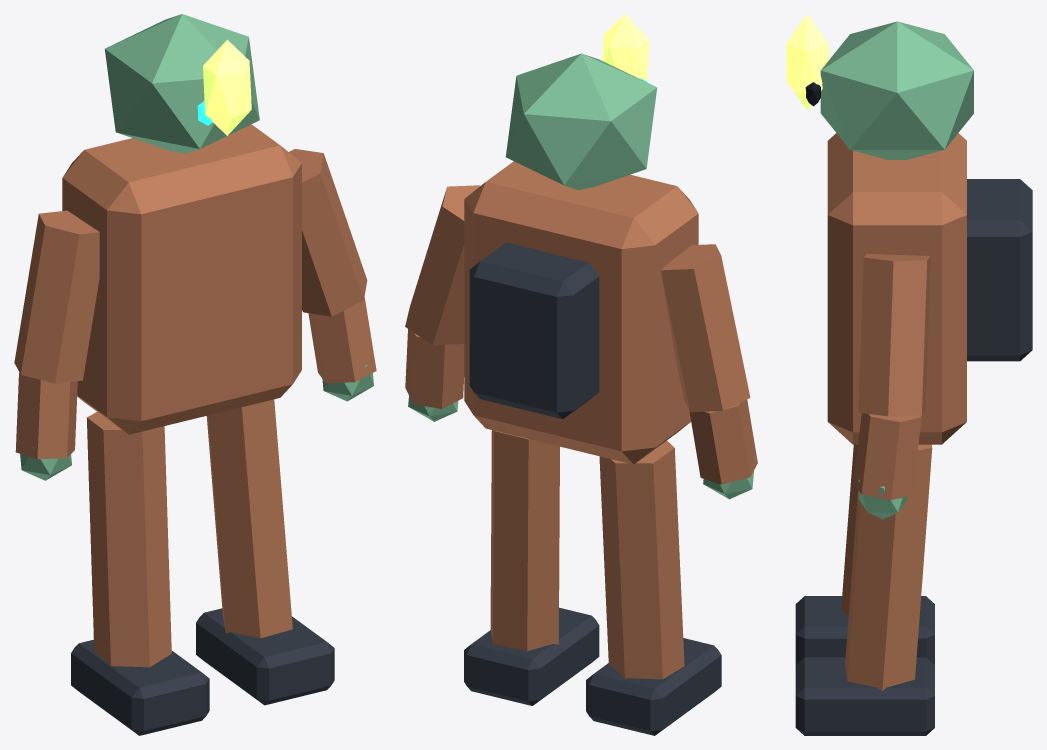
Rendered from npcs_037_seed11.glb.
3 views of the same model, side by side, from view 1: azimuth 30°, elevation 25°; view 2: azimuth 150°, elevation 25°; view 3: azimuth 270°, elevation 25° (orthographic). The views are drawn at different scales.
Visible parts, largest first — view 1: npcs_037_seed11; view 2: npcs_037_seed11; view 3: npcs_037_seed11.
Part boxes in pixels (x1=…): npcs_037_seed11: x1=14, y1=14, x2=376, y2=735; npcs_037_seed11: x1=405, y1=14, x2=757, y2=735; npcs_037_seed11: x1=786, y1=14, x2=1032, y2=735.
Size of the model in its own units: 1.14 by 2.08 by 0.6904.
